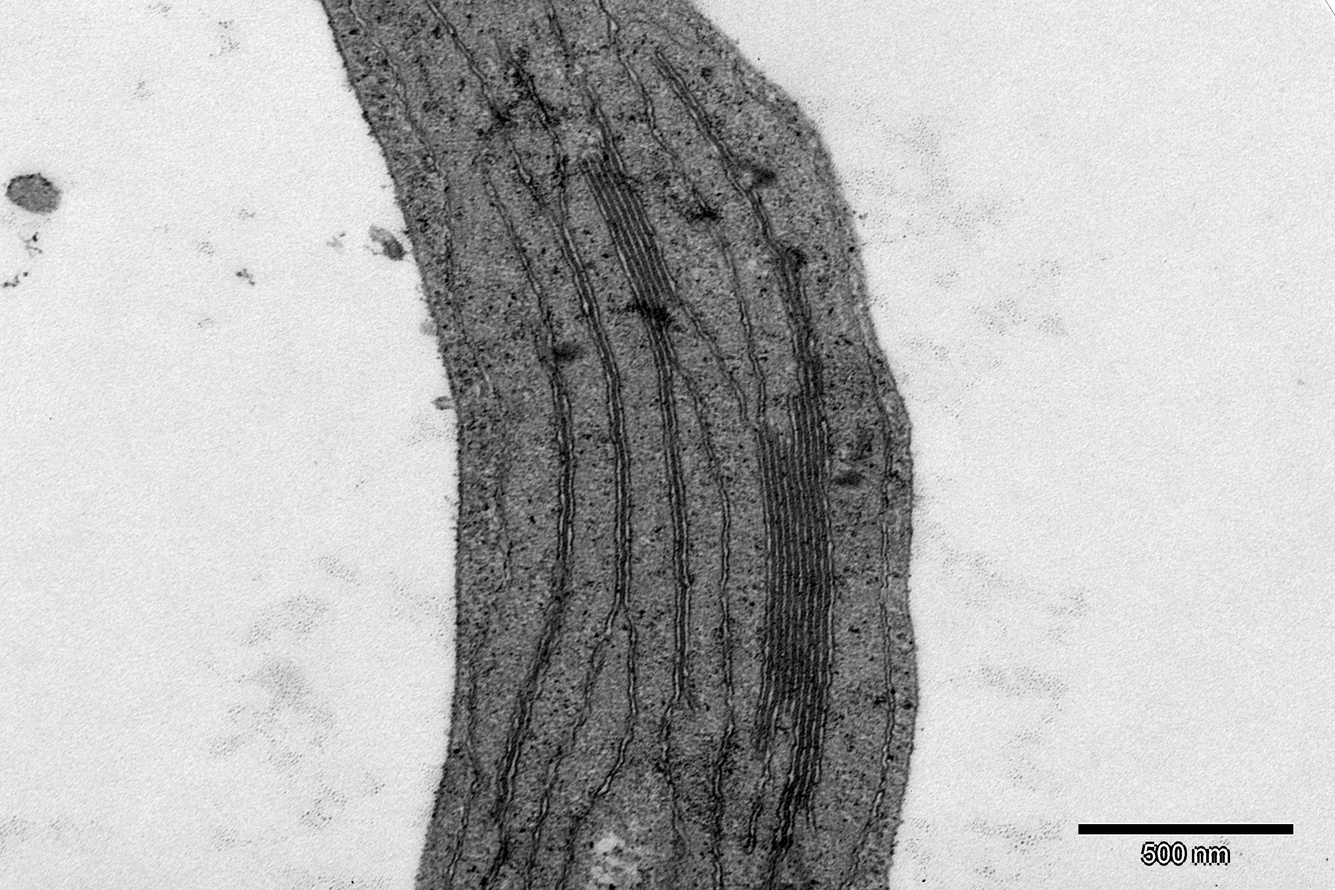granum: (745, 239, 840, 812), (568, 145, 688, 371)
